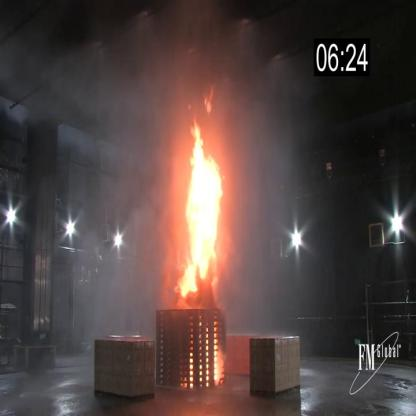fire: (175, 118, 225, 310), (198, 83, 217, 114), (213, 346, 227, 388)
